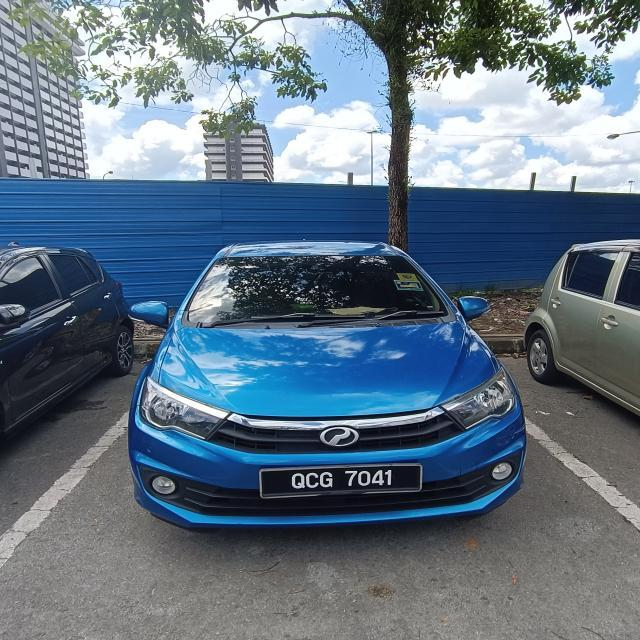PeroduaBezza: (126, 238, 528, 532)
